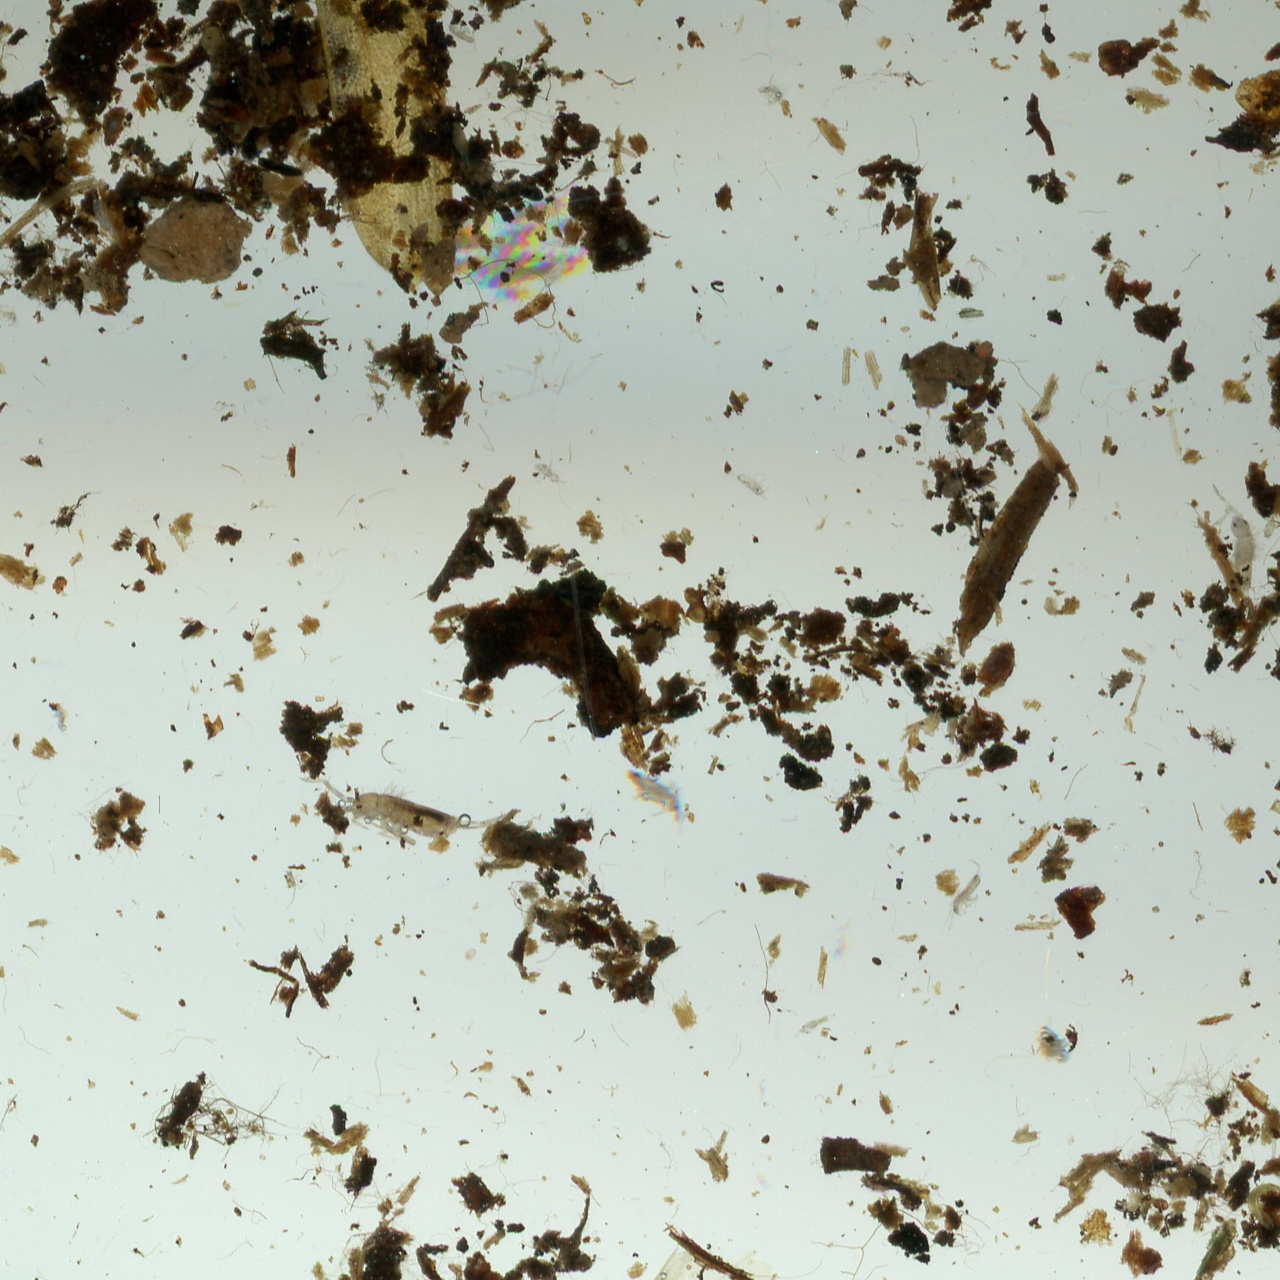arthropod: (299, 776, 509, 853), (607, 745, 706, 841), (1210, 478, 1270, 603), (926, 854, 1001, 941), (719, 456, 783, 507), (531, 240, 579, 303), (790, 1007, 840, 1043), (529, 449, 571, 490), (90, 185, 119, 243), (447, 5, 478, 56), (1265, 1133, 1280, 1218), (754, 72, 789, 107), (49, 697, 72, 739), (0, 303, 23, 332)
